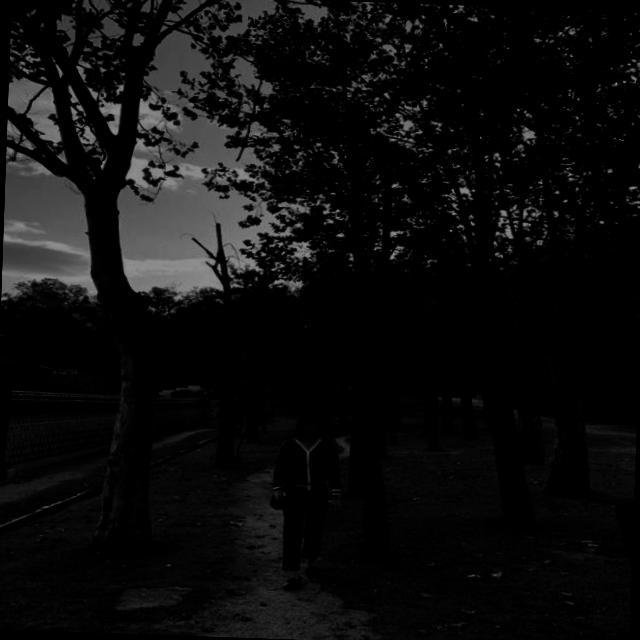cardigan: (272, 438, 342, 497)
denimpants: (280, 486, 326, 568)
